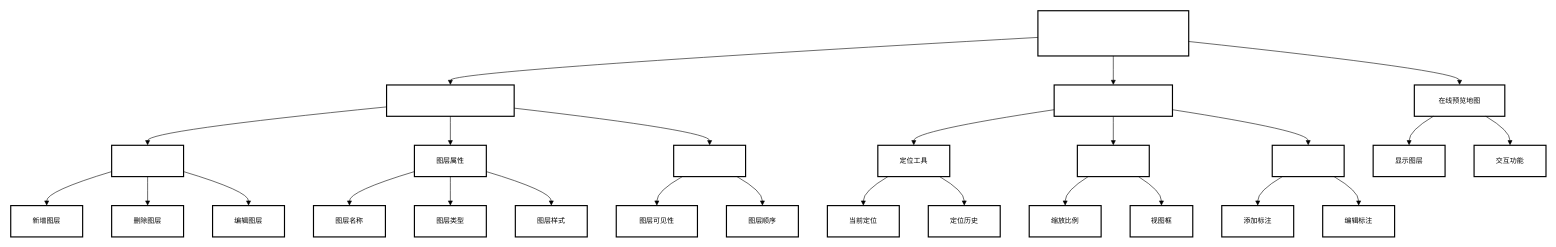
Some shapes in this 1556 by 247 pixel diagram are drawn without their labels. Each missing label, with the centre of its shape:
"国土空间规划一张图图层组件" goes at point (1113, 33).
"图层状态" goes at point (709, 160).
"图层节点" goes at point (147, 160).
"拖拉拽方式定义工具" goes at point (1113, 100).
"标注工具" goes at point (1307, 160).
"用户自定义图层目录树" goes at point (450, 100).
"鹰眼工具" goes at point (1113, 160).
